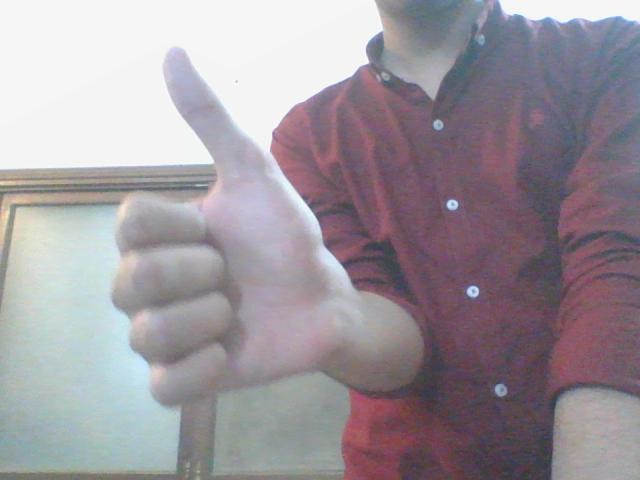thumbs-up: (116, 44, 333, 407)
